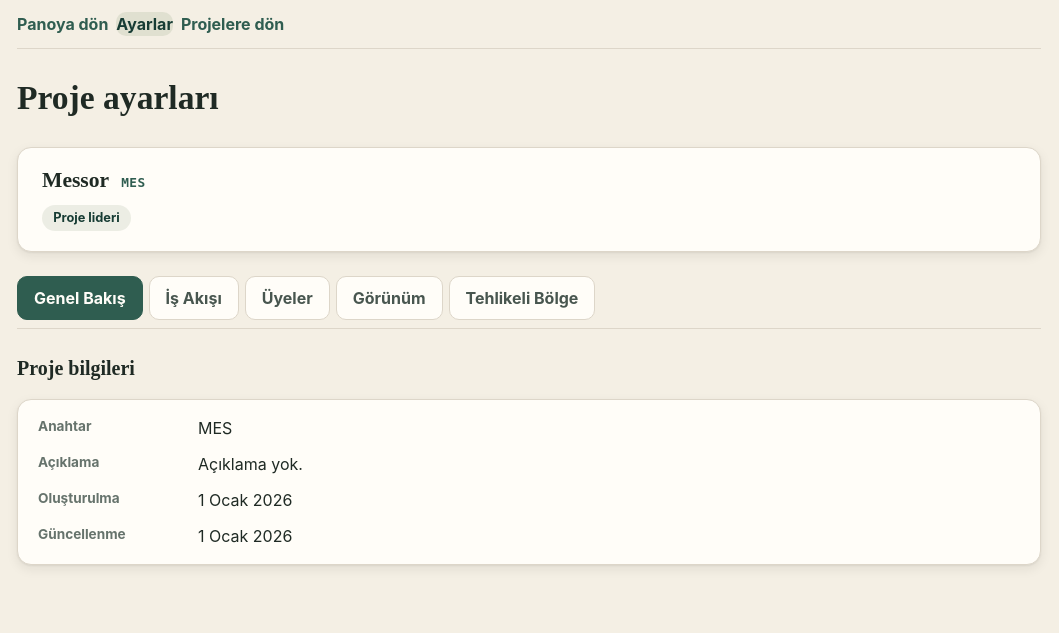
Test case: ProjectSettingsPage › page states › shows a safe error when the member list fails to load
The image size is (1059, 633).
Click the tab "Üyeler": (287, 298) [245, 276, 330, 320]
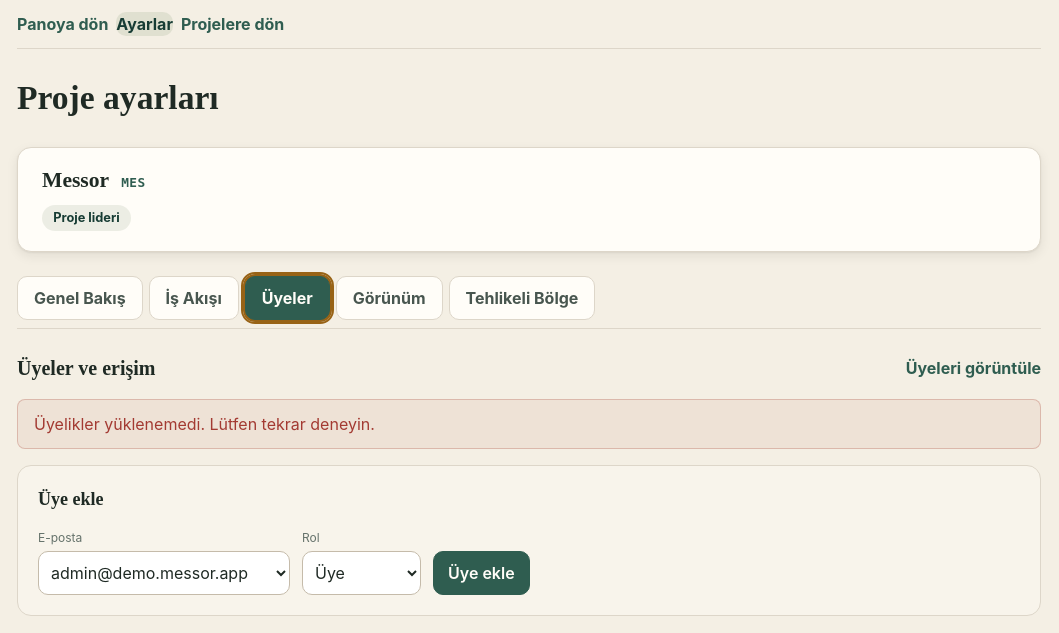
Now the message reads "Üyelikler yüklenemedi. Lütfen tekrar deneyin.", box [34, 414, 375, 434]
